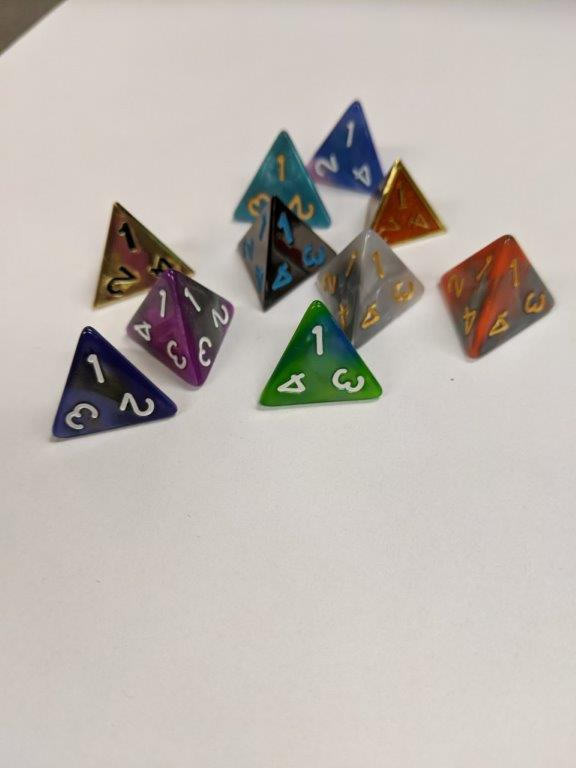d4-1: (433, 235, 556, 360), (50, 327, 177, 445), (256, 299, 385, 409), (125, 270, 240, 391), (317, 225, 425, 349), (237, 193, 336, 311), (87, 201, 191, 306), (231, 129, 328, 226), (298, 98, 385, 197), (363, 156, 445, 249)
